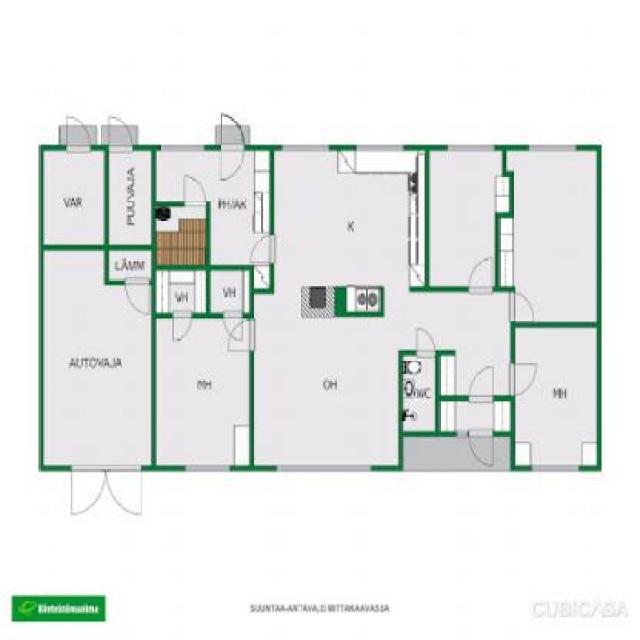door: (70, 464, 142, 518), (219, 114, 246, 183), (121, 276, 152, 322), (63, 115, 94, 160), (220, 317, 255, 355), (106, 114, 136, 158), (465, 258, 497, 296), (466, 429, 497, 468), (506, 361, 537, 397), (468, 363, 495, 402), (508, 289, 537, 322), (414, 326, 437, 363), (171, 310, 195, 344), (250, 236, 278, 264), (183, 174, 206, 208), (222, 309, 242, 342)
window: (274, 464, 372, 476), (282, 140, 329, 155), (448, 142, 495, 156), (158, 141, 204, 154), (355, 143, 403, 154), (532, 463, 578, 474), (529, 144, 577, 154), (185, 463, 228, 474)
zone: (257, 149, 511, 465), (43, 250, 151, 464), (505, 149, 597, 322), (157, 318, 249, 464), (156, 151, 270, 263), (429, 151, 511, 286), (515, 328, 594, 464), (45, 151, 103, 243), (109, 152, 151, 245), (156, 203, 207, 263), (408, 440, 509, 466), (402, 354, 436, 429), (157, 271, 206, 314), (442, 402, 506, 429), (211, 269, 249, 314), (109, 249, 151, 280)
